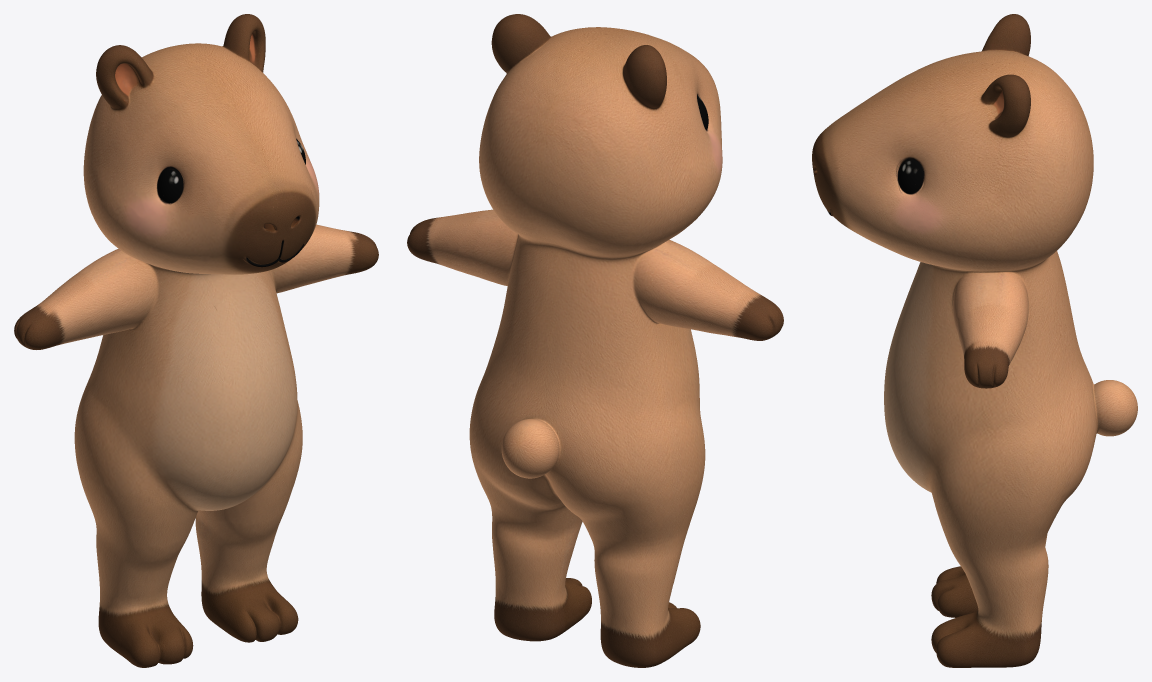
Rendered from source.glb.
3 views of the same model, side by side, from view 1: azimuth 30°, elevation 25°; view 2: azimuth 150°, elevation 25°; view 3: azimuth 270°, elevation 25° (orthographic). The views are drawn at different scales.
Bounding box in the file's own units: 1.2 × 1.9 × 0.9605.
1 material, 1 textured.
